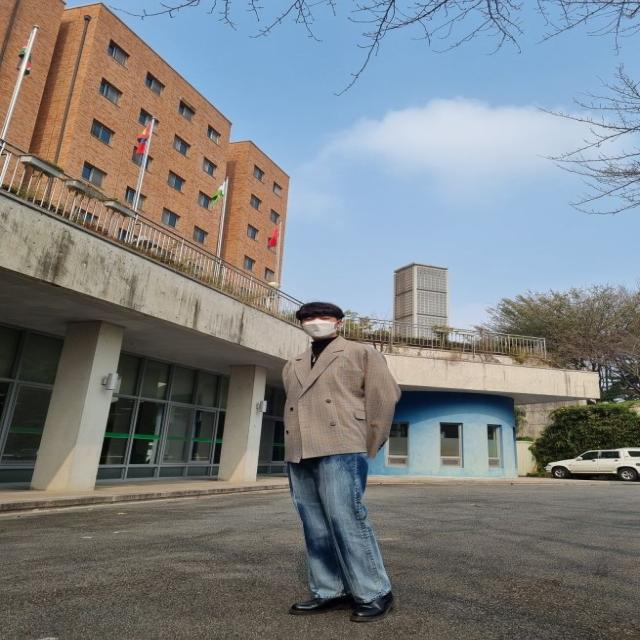blazer: (280, 333, 401, 463)
denimpants: (292, 448, 392, 607)
